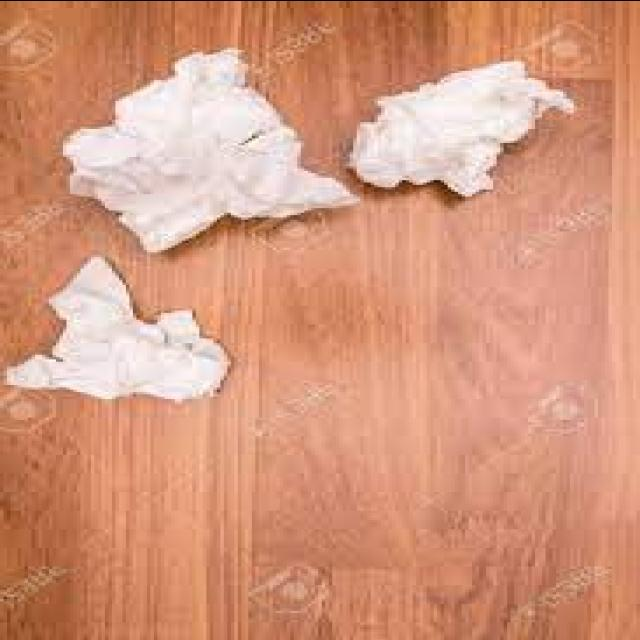tissue: (64, 47, 360, 251), (5, 256, 231, 399), (352, 61, 572, 195)
